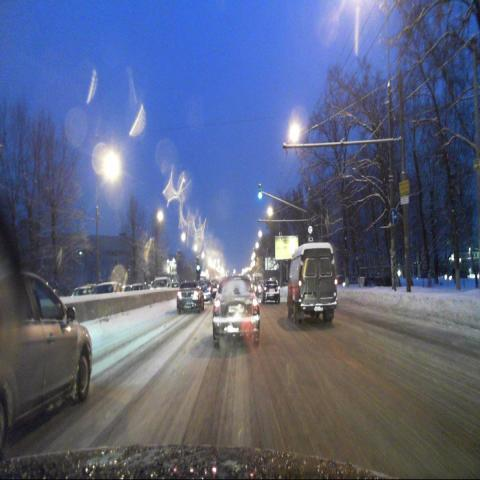4_1_4: (388, 206, 398, 226)
